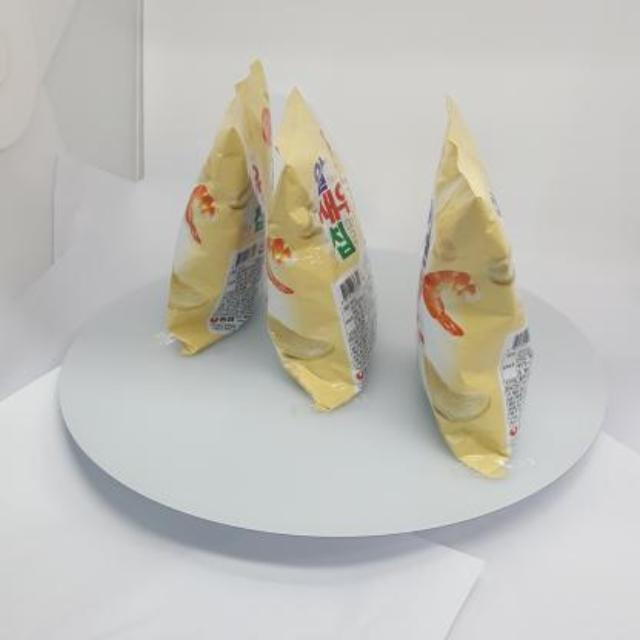snack_bag: (139, 50, 565, 492)
